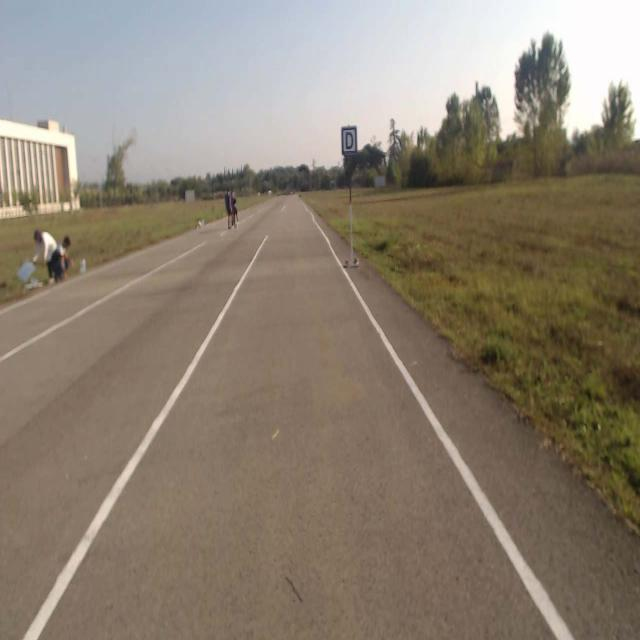durak: (342, 126, 357, 153)
